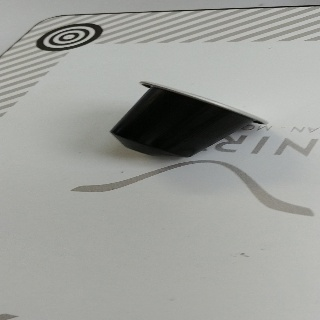capsule_10: (109, 80, 269, 159)
